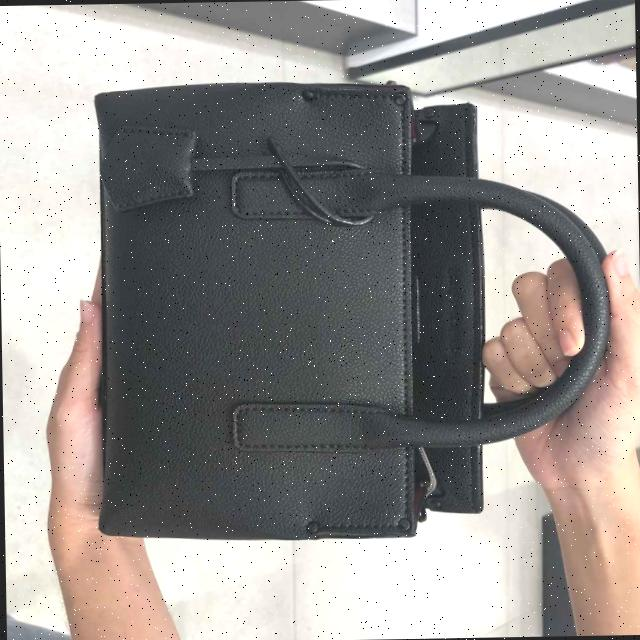Handbag: (44, 5, 640, 610)
